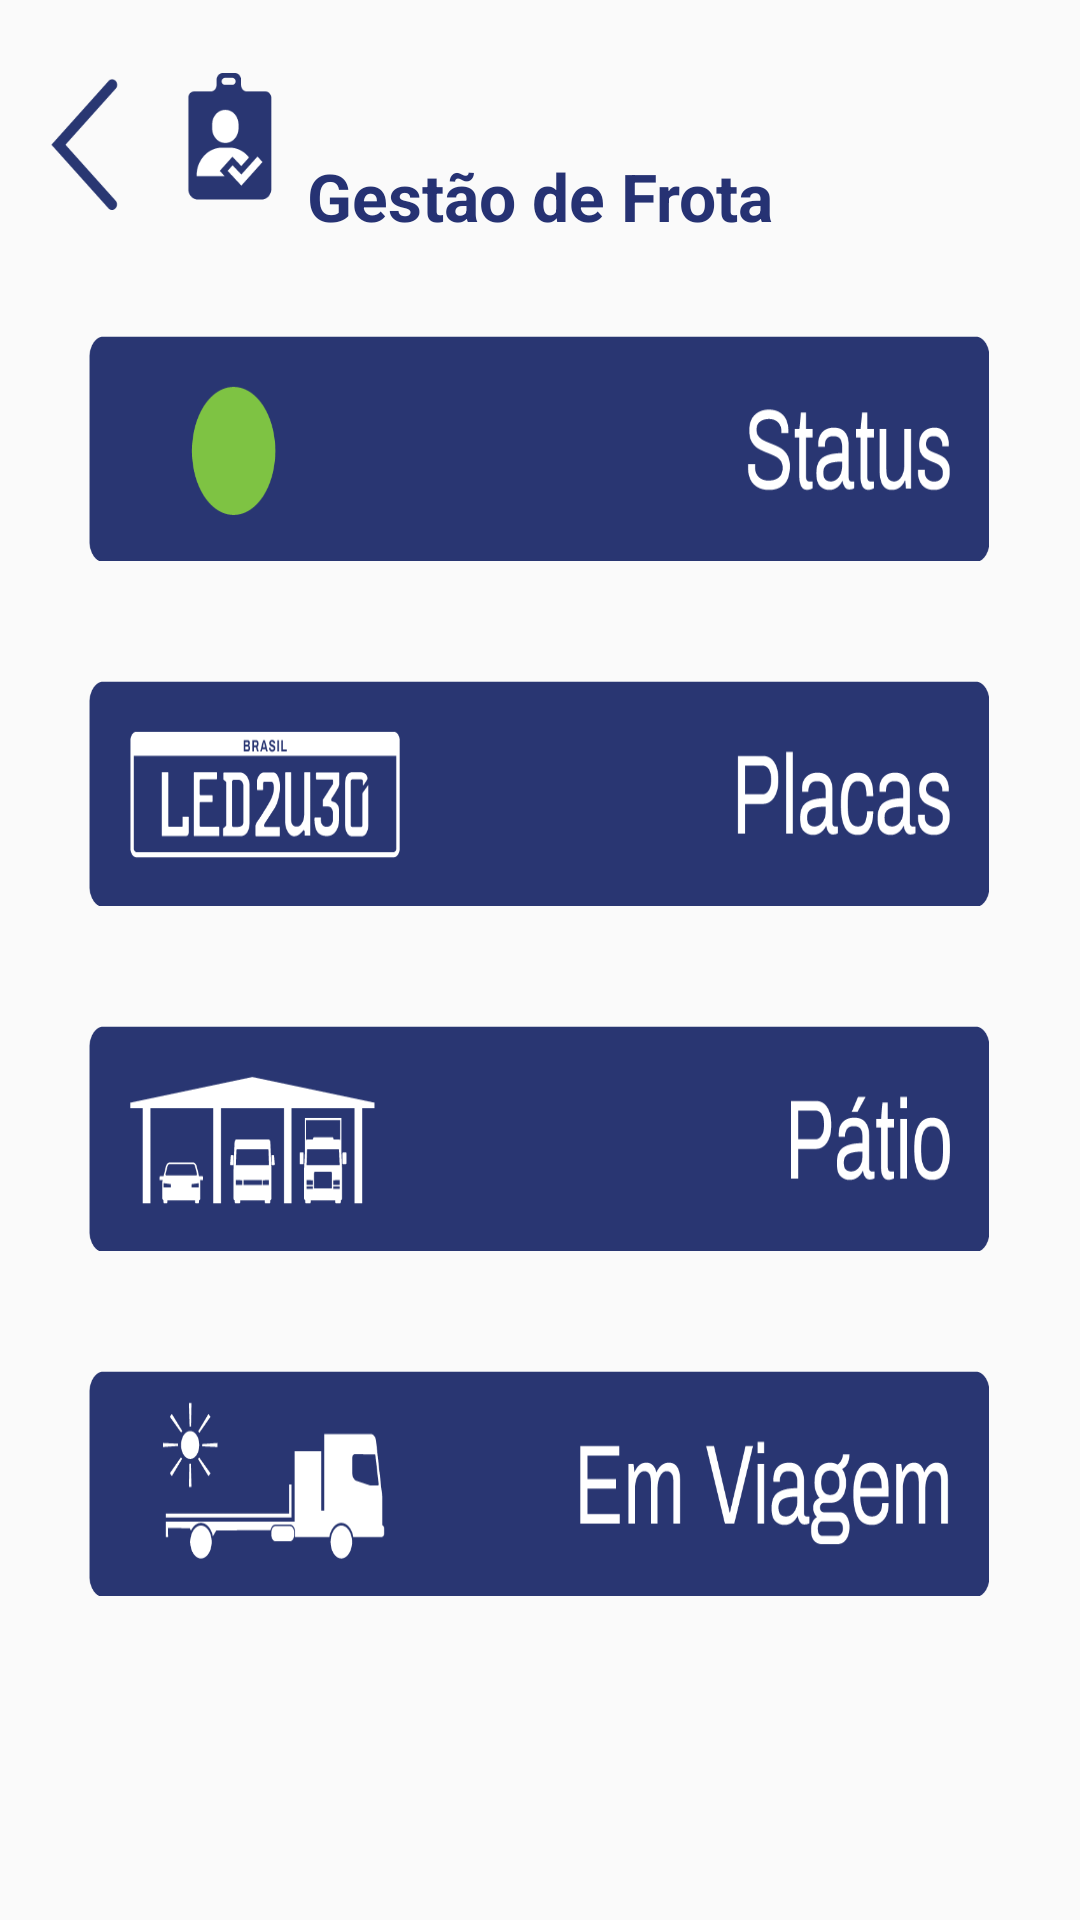

Screen size 1080px x 1920px. Icon name, then its box in pixels as (x1, y1, x2, y2):
voltar adm: (51, 73, 272, 210)
